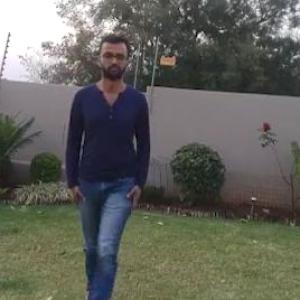follow: (64, 32, 152, 299)
